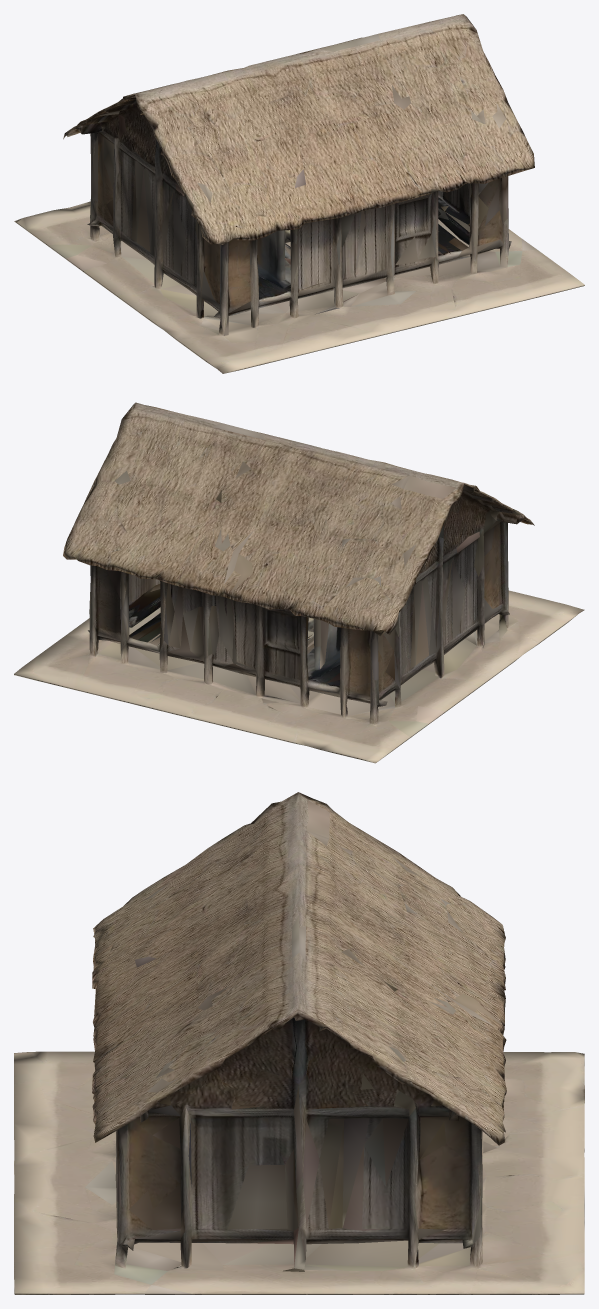
The model's file is nha-mai-la.glb.
3 views of the same model, one above another, from view 1: azimuth 30°, elevation 25°; view 2: azimuth 150°, elevation 25°; view 3: azimuth 270°, elevation 25° (orthographic). The views are drawn at different scales.
Parts seen in each view (by area): view 1: Object_5; view 2: Object_5; view 3: Object_5.
Part boxes in pixels (x1,y1,x2,y2): Object_5: (14,14,584,373); Object_5: (14,402,584,763); Object_5: (14,792,584,1294).
Size of the model in its own units: 1 by 0.5296 by 0.9999.
Materials: 1 (1 with a texture image).
